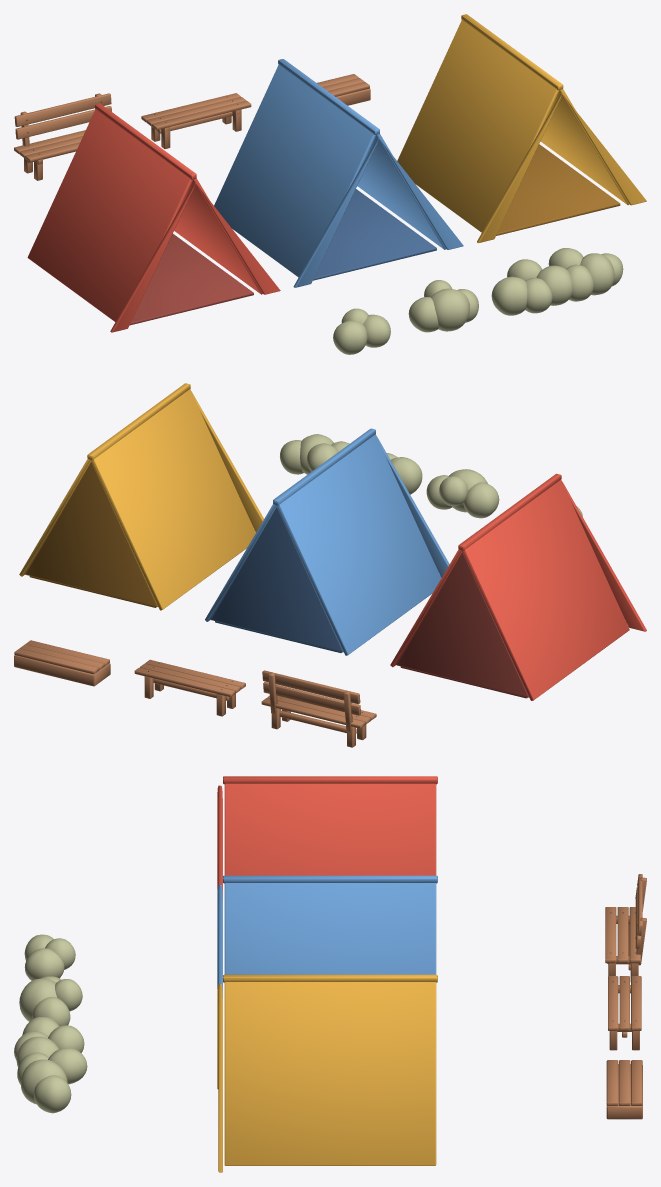
File: park-mobilya-seti.glb
3 views of the same model, one above another, from view 1: azimuth 30°, elevation 25°; view 2: azimuth 150°, elevation 25°; view 3: azimuth 270°, elevation 25° (orthographic). The views are drawn at different scales.
Visible parts, largest first — view 1: 67P_CADIR_KIRMIZI_01_BODY, 67P_CADIR_SARI_01_BODY, 67P_CADIR_MAVI_01_BODY, 67P_PROP_BUSH_UZUN_01_BODY, 67P_CADIR_SARI_01_INTERIOR, 67P_CADIR_MAVI_01_INTERIOR, 67P_CADIR_KIRMIZI_01_INTERIOR, 67P_BANK_SIRTLIKLI_01_BODY, 67P_PROP_BUSH_KOMPAKT_01_BODY, 67P_BANK_SIRTSIZ_01_BODY, 67P_PROP_BUSH_KUCUK_01_BODY, 67P_OTURMA_BLOK_01_BODY; view 2: 67P_CADIR_KIRMIZI_01_BODY, 67P_CADIR_SARI_01_BODY, 67P_CADIR_MAVI_01_BODY, 67P_CADIR_KIRMIZI_01_INTERIOR, 67P_CADIR_MAVI_01_INTERIOR, 67P_CADIR_SARI_01_INTERIOR, 67P_BANK_SIRTLIKLI_01_BODY, 67P_OTURMA_BLOK_01_BODY, 67P_BANK_SIRTSIZ_01_BODY, 67P_PROP_BUSH_KOMPAKT_01_BODY, 67P_PROP_BUSH_UZUN_01_BODY; view 3: 67P_CADIR_SARI_01_BODY, 67P_CADIR_MAVI_01_BODY, 67P_CADIR_KIRMIZI_01_BODY, 67P_PROP_BUSH_UZUN_01_BODY, 67P_BANK_SIRTLIKLI_01_BODY, 67P_PROP_BUSH_KOMPAKT_01_BODY, 67P_BANK_SIRTSIZ_01_BODY, 67P_OTURMA_BLOK_01_BODY, 67P_PROP_BUSH_KUCUK_01_BODY.
Part boxes in pixels (bbox=[...]): 67P_CADIR_KIRMIZI_01_BODY: bbox=[27, 103, 280, 332]; 67P_CADIR_SARI_01_BODY: bbox=[397, 14, 646, 243]; 67P_CADIR_MAVI_01_BODY: bbox=[214, 59, 463, 287]; 67P_PROP_BUSH_UZUN_01_BODY: bbox=[491, 248, 623, 315]; 67P_CADIR_SARI_01_INTERIOR: bbox=[496, 144, 620, 235]; 67P_CADIR_MAVI_01_INTERIOR: bbox=[313, 189, 436, 280]; 67P_CADIR_KIRMIZI_01_INTERIOR: bbox=[130, 233, 253, 325]; 67P_BANK_SIRTLIKLI_01_BODY: bbox=[14, 93, 111, 180]; 67P_PROP_BUSH_KOMPAKT_01_BODY: bbox=[408, 280, 478, 332]; 67P_BANK_SIRTSIZ_01_BODY: bbox=[141, 93, 251, 148]; 67P_PROP_BUSH_KUCUK_01_BODY: bbox=[333, 308, 390, 354]; 67P_OTURMA_BLOK_01_BODY: bbox=[317, 74, 370, 105]; 67P_CADIR_KIRMIZI_01_BODY: bbox=[390, 473, 646, 700]; 67P_CADIR_SARI_01_BODY: bbox=[19, 383, 263, 610]; 67P_CADIR_MAVI_01_BODY: bbox=[205, 428, 449, 655]; 67P_CADIR_KIRMIZI_01_INTERIOR: bbox=[396, 552, 529, 698]; 67P_CADIR_MAVI_01_INTERIOR: bbox=[211, 507, 343, 652]; 67P_CADIR_SARI_01_INTERIOR: bbox=[25, 461, 157, 607]; 67P_BANK_SIRTLIKLI_01_BODY: bbox=[261, 670, 376, 747]; 67P_OTURMA_BLOK_01_BODY: bbox=[14, 640, 110, 686]; 67P_BANK_SIRTSIZ_01_BODY: bbox=[134, 659, 245, 716]; 67P_PROP_BUSH_KOMPAKT_01_BODY: bbox=[426, 469, 499, 518]; 67P_PROP_BUSH_UZUN_01_BODY: bbox=[280, 434, 422, 494]; 67P_CADIR_SARI_01_BODY: bbox=[217, 974, 437, 1172]; 67P_CADIR_MAVI_01_BODY: bbox=[217, 875, 437, 996]; 67P_CADIR_KIRMIZI_01_BODY: bbox=[217, 776, 437, 897]; 67P_PROP_BUSH_UZUN_01_BODY: bbox=[14, 1017, 87, 1113]; 67P_BANK_SIRTLIKLI_01_BODY: bbox=[605, 874, 646, 981]; 67P_PROP_BUSH_KOMPAKT_01_BODY: bbox=[19, 976, 82, 1026]; 67P_BANK_SIRTSIZ_01_BODY: bbox=[608, 976, 641, 1050]; 67P_OTURMA_BLOK_01_BODY: bbox=[606, 1060, 642, 1119]; 67P_PROP_BUSH_KUCUK_01_BODY: bbox=[24, 934, 75, 980].
Bounding box in the file's own units: 10.39 × 2.55 × 9.57.
